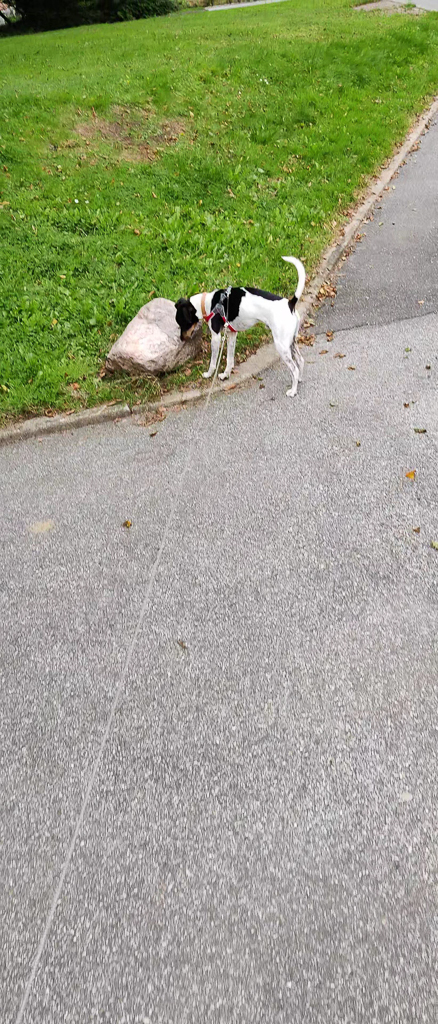Dog: (166, 248, 315, 400)
